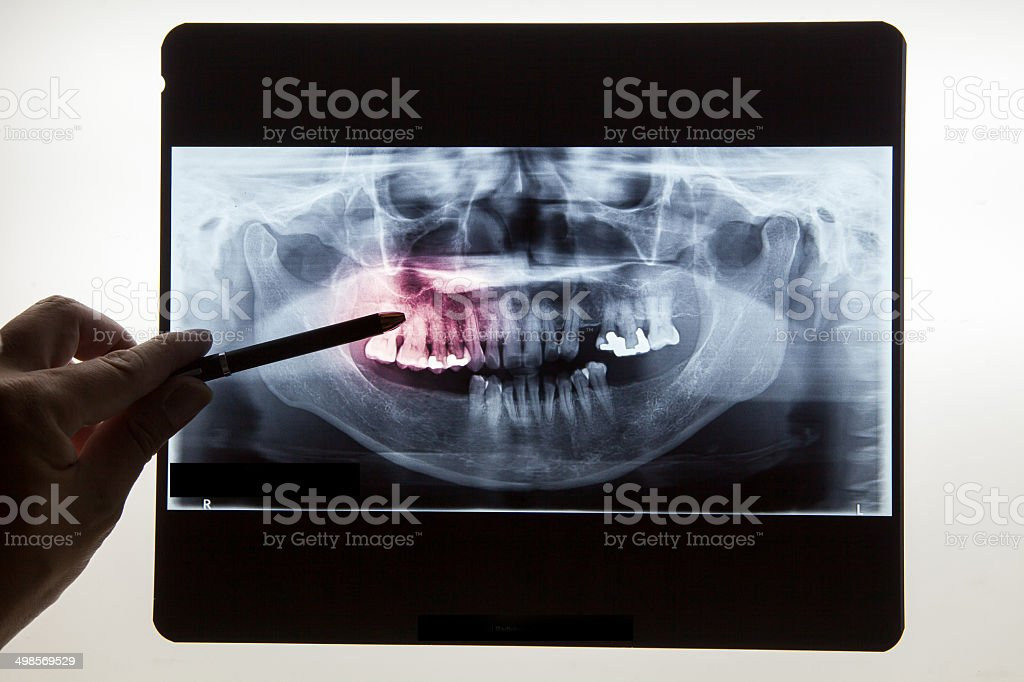canine: (456, 301, 486, 370), (482, 374, 502, 440), (556, 373, 573, 436)
incisor: (497, 298, 525, 370), (482, 292, 504, 370), (522, 298, 545, 369), (542, 291, 560, 370), (524, 368, 544, 430), (512, 373, 530, 427), (538, 373, 554, 432), (501, 382, 517, 433)
molar: (395, 289, 433, 372), (647, 286, 681, 349), (358, 332, 400, 366)
premolar: (582, 358, 615, 428), (555, 285, 580, 365), (441, 302, 468, 369), (570, 367, 591, 429), (430, 304, 447, 378), (464, 373, 487, 423)
